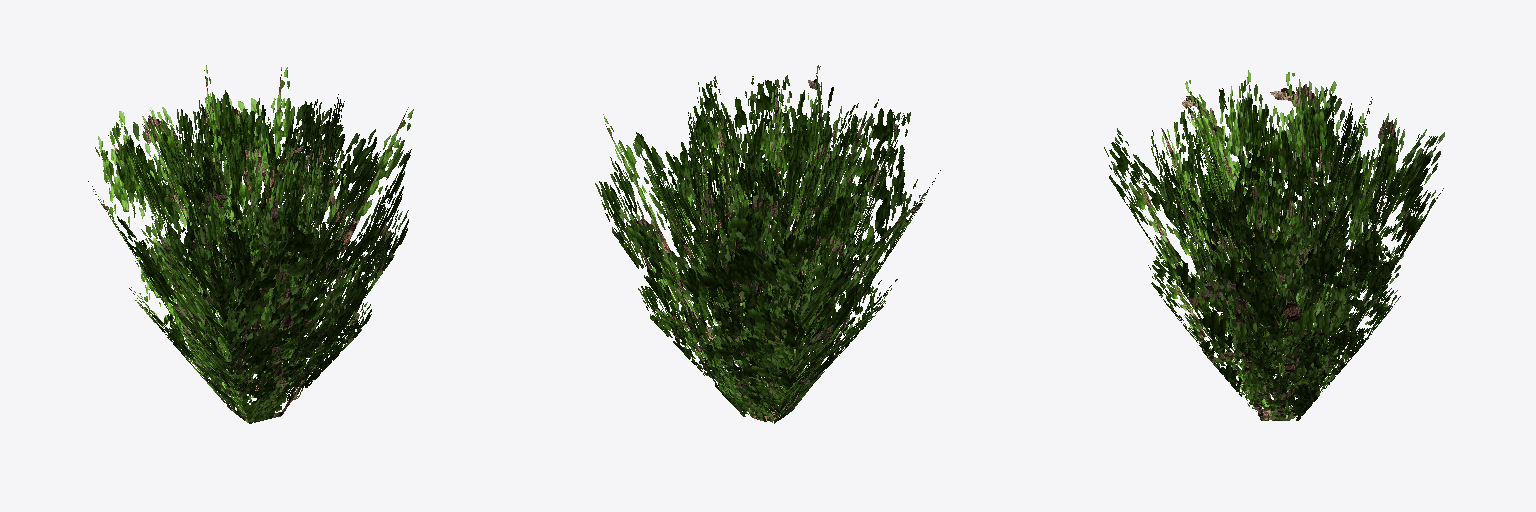
3 renders of one model, left to right at view 1: azimuth 30°, elevation 25°; view 2: azimuth 150°, elevation 25°; view 3: azimuth 270°, elevation 25°, orthographic.
Size of the model in its own units: 2.6 by 2.4 by 2.6.
1 materials, 1 textured.